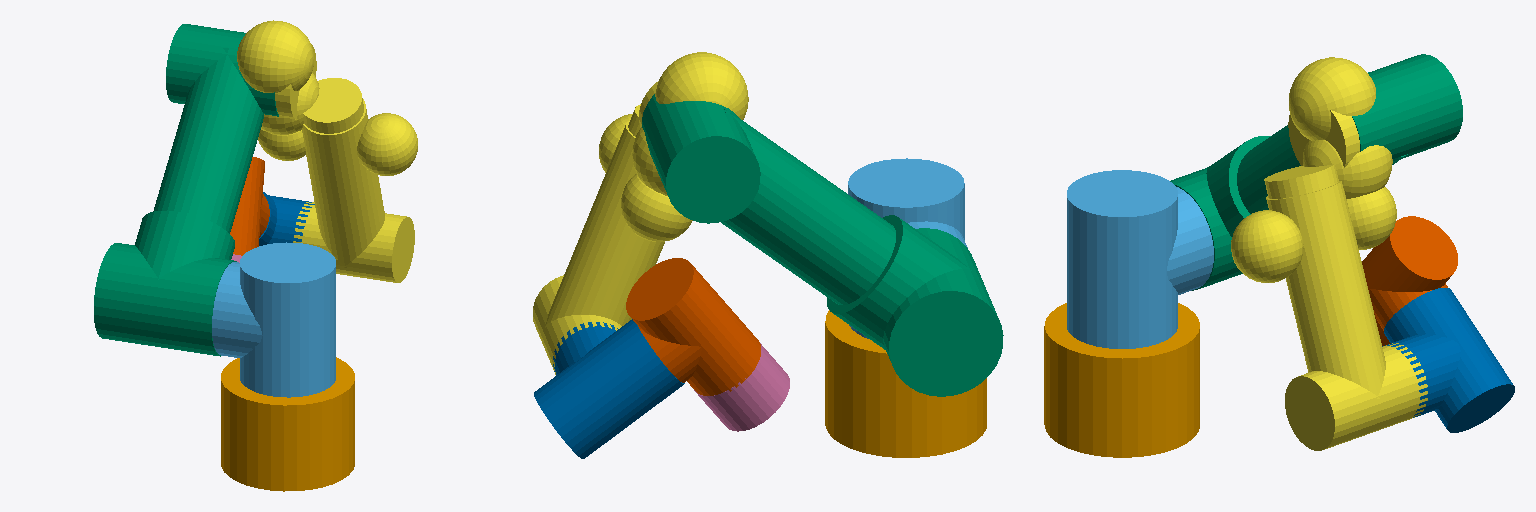
The robot description file, URDF, robot "[local-path]/Sciebo2/_EMR26/_git/emr26-1/ikpy/UR3e.urdf":
<?xml version="1.0"?>
<robot name="C:/Users/ProfJust/Sciebo2/_EMR26/_git/emr26-1/ikpy/UR3e.urdf" xmlns:xacro="http://ros.org/wiki/xacro">
  <link name="base_link">
    <visual>
      <origin xyz="0 0 0.045" rpy="-3.141592 0 0"/>
      <geometry>
        <cylinder radius="0.064" length="0.09"/>
      </geometry>
    </visual>
    <collision>
      <origin xyz="0 0 0.045" rpy="-3.141592 0 0"/>
      <geometry>
        <cylinder radius="0.064" length="0.09"/>
      </geometry>
    </collision>
  </link>
  <joint name="shoulder_pan_joint" type="revolute">
    <parent link="base_link"/>
    <child link="shoulder_link"/>
    <axis xyz="0 0 1"/>
    <limit effort="330" lower="-6.28319" upper="6.28319" velocity="3.14"/>
    <origin xyz="0 0 0.152" rpy="0 0 0.700086"/>
  </joint>
  <link name="shoulder_link">
    <visual>
      <origin xyz="0 0 -0.003" rpy="-3.141592 0 0"/>
      <geometry>
        <cylinder radius="0.046" length="0.121"/>
      </geometry>
    </visual>
    <collision>
      <origin xyz="0 0 -0.003" rpy="-3.141592 0 0"/>
      <geometry>
        <cylinder radius="0.046" length="0.121"/>
      </geometry>
    </collision>
    <visual>
      <origin xyz="0 0.03 0" rpy="-1.570796 0 0"/>
      <geometry>
        <cylinder radius="0.045" length="0.066"/>
      </geometry>
    </visual>
    <collision>
      <origin xyz="0 0.03 0" rpy="-1.570796 0 0"/>
      <geometry>
        <cylinder radius="0.045" length="0.066"/>
      </geometry>
    </collision>
  </link>
  <joint name="shoulder_lift_joint" type="revolute">
    <parent link="shoulder_link"/>
    <child link="upper_arm_link"/>
    <axis xyz="0 1 0"/>
    <limit effort="330" lower="-6.28319" upper="6.28319" velocity="3.14"/>
    <origin xyz="0 0.12 0" rpy="0 0.870837 0"/>
  </joint>
  <link name="upper_arm_link">
    <visual>
      <origin xyz="0 0 0.035" rpy="-3.141592 0 0"/>
      <geometry>
        <cylinder radius="0.046" length="0.073"/>
      </geometry>
    </visual>
    <collision>
      <origin xyz="0 0 0.035" rpy="-3.141592 0 0"/>
      <geometry>
        <cylinder radius="0.046" length="0.073"/>
      </geometry>
    </collision>
    <visual>
      <origin xyz="0 0 0.157" rpy="-3.141592 0 0"/>
      <geometry>
        <cylinder radius="0.038" length="0.186"/>
      </geometry>
    </visual>
    <collision>
      <origin xyz="0 0 0.157" rpy="-3.141592 0 0"/>
      <geometry>
        <cylinder radius="0.038" length="0.186"/>
      </geometry>
    </collision>
    <visual>
      <origin xyz="0 0 0" rpy="-1.570796 0 0"/>
      <geometry>
        <cylinder radius="0.046" length="0.119"/>
      </geometry>
    </visual>
    <collision>
      <origin xyz="0 0 0" rpy="-1.570796 0 0"/>
      <geometry>
        <cylinder radius="0.046" length="0.119"/>
      </geometry>
    </collision>
    <visual>
      <origin xyz="0 0.002 0.2435" rpy="-1.570796 0 0"/>
      <geometry>
        <cylinder radius="0.038" length="0.11"/>
      </geometry>
    </visual>
    <collision>
      <origin xyz="0 0.002 0.2435" rpy="-1.570796 0 0"/>
      <geometry>
        <cylinder radius="0.038" length="0.11"/>
      </geometry>
    </collision>
  </link>
  <joint name="elbow_joint" type="revolute">
    <parent link="upper_arm_link"/>
    <child link="forearm_link"/>
    <axis xyz="0 1 0"/>
    <limit effort="150" lower="-3.14159" upper="3.14159" velocity="3.14"/>
    <origin xyz="0 -0.093 0.244" rpy="3.141593 1.241584 3.141593"/>
  </joint>
  <link name="forearm_link">
    <visual>
      <origin xyz="0 0 0.125" rpy="-3.141592 0 0"/>
      <geometry>
        <cylinder radius="0.032" length="0.18"/>
      </geometry>
    </visual>
    <collision>
      <origin xyz="0 0 0.125" rpy="-3.141592 0 0"/>
      <geometry>
        <cylinder radius="0.032" length="0.18"/>
      </geometry>
    </collision>
    <visual>
      <origin xyz="0 0.002 0.213" rpy="-1.570796 0 0"/>
      <geometry>
        <cylinder radius="0.032" length="0.1"/>
      </geometry>
    </visual>
    <collision>
      <origin xyz="0 0.002 0.213" rpy="-1.570796 0 0"/>
      <geometry>
        <cylinder radius="0.032" length="0.1"/>
      </geometry>
    </collision>
    <visual>
      <origin xyz="0 0.05 0" rpy="-1.570796 0 0"/>
      <geometry>
        <cylinder radius="0.037" length="0.05"/>
      </geometry>
    </visual>
    <collision>
      <origin xyz="0 0.05 0" rpy="-1.570796 0 0"/>
      <geometry>
        <cylinder radius="0.037" length="0.05"/>
      </geometry>
    </collision>
    <visual>
      <origin xyz="0 0.05 -0.025" rpy="-1.570796 0 0"/>
      <geometry>
        <sphere radius="0.037"/>
      </geometry>
    </visual>
    <collision>
      <origin xyz="0 0.05 -0.025" rpy="-1.570796 0 0"/>
      <geometry>
        <sphere radius="0.037"/>
      </geometry>
    </collision>
    <visual>
      <origin xyz="0 0.05 0.025" rpy="-1.570796 0 0"/>
      <geometry>
        <sphere radius="0.037"/>
      </geometry>
    </visual>
    <collision>
      <origin xyz="0 0.05 0.025" rpy="-1.570796 0 0"/>
      <geometry>
        <sphere radius="0.037"/>
      </geometry>
    </collision>
    <visual>
      <origin xyz="0 0 0.07" rpy="0 0 0"/>
      <geometry>
        <cylinder radius="0.03" length="0.1"/>
      </geometry>
    </visual>
    <collision>
      <origin xyz="0 0 0.07" rpy="0 0 0"/>
      <geometry>
        <cylinder radius="0.03" length="0.1"/>
      </geometry>
    </collision>
    <visual>
      <origin xyz="0 0.05 0.07" rpy="0 0 0"/>
      <geometry>
        <sphere radius="0.03"/>
      </geometry>
    </visual>
    <collision>
      <origin xyz="0 0.05 0.07" rpy="0 0 0"/>
      <geometry>
        <sphere radius="0.03"/>
      </geometry>
    </collision>
    <visual>
      <origin xyz="0 -0.05 0.07" rpy="0 0 0"/>
      <geometry>
        <sphere radius="0.03"/>
      </geometry>
    </visual>
    <collision>
      <origin xyz="0 -0.05 0.07" rpy="0 0 0"/>
      <geometry>
        <sphere radius="0.03"/>
      </geometry>
    </collision>
  </link>
  <joint name="wrist_1_joint" type="revolute">
    <parent link="forearm_link"/>
    <child link="wrist_1_link"/>
    <axis xyz="0 1 0"/>
    <limit effort="54" lower="-6.28319" upper="6.28319" velocity="6.28"/>
    <origin xyz="0 0 0.213" rpy="3.141593 0.570801 3.141593"/>
  </joint>
  <link name="wrist_1_link">
    <visual>
      <origin xyz="0 0.075 0" rpy="-1.570796 0 0"/>
      <geometry>
        <cylinder radius="0.032" length="0.064"/>
      </geometry>
    </visual>
    <collision>
      <origin xyz="0 0.075 0" rpy="-1.570796 0 0"/>
      <geometry>
        <cylinder radius="0.032" length="0.064"/>
      </geometry>
    </collision>
    <visual>
      <origin xyz="0 0.104 0.003" rpy="3.141592 0 0"/>
      <geometry>
        <cylinder radius="0.033" length="0.1"/>
      </geometry>
    </visual>
    <collision>
      <origin xyz="0 0.104 0.003" rpy="3.141592 0 0"/>
      <geometry>
        <cylinder radius="0.033" length="0.1"/>
      </geometry>
    </collision>
  </link>
  <joint name="wrist_2_joint" type="revolute">
    <parent link="wrist_1_link"/>
    <child link="wrist_2_link"/>
    <axis xyz="0 0 1"/>
    <limit effort="54" lower="-6.28319" upper="6.28319" velocity="6.28"/>
    <origin xyz="0 0.104 0" rpy="0 0 1.699999"/>
  </joint>
  <link name="wrist_2_link">
    <visual>
      <origin xyz="0 0.002 0.0854" rpy="-1.570796 0 0"/>
      <geometry>
        <cylinder radius="0.032" length="0.097"/>
      </geometry>
    </visual>
    <collision>
      <origin xyz="0 0.002 0.0854" rpy="-1.570796 0 0"/>
      <geometry>
        <cylinder radius="0.032" length="0.097"/>
      </geometry>
    </collision>
    <visual>
      <origin xyz="0 0 0.0636" rpy="-3.141592 0 0"/>
      <geometry>
        <cylinder radius="0.032" length="0.043"/>
      </geometry>
    </visual>
    <collision>
      <origin xyz="0 0 0.0636" rpy="-3.141592 0 0"/>
      <geometry>
        <cylinder radius="0.032" length="0.043"/>
      </geometry>
    </collision>
  </link>
  <joint name="wrist_3_joint" type="revolute">
    <parent link="wrist_2_link"/>
    <child link="wrist_3_link"/>
    <axis xyz="0 1 0"/>
    <limit effort="54" lower="-6.28319" upper="6.28319" velocity="6.28"/>
    <origin xyz="0 0 0.085" rpy="0 0.1 0"/>
  </joint>
  <link name="wrist_3_link">
    <visual>
      <origin xyz="0 0.07 0" rpy="-1.570796 0 0"/>
      <geometry>
        <cylinder radius="0.032" length="0.044"/>
      </geometry>
    </visual>
    <collision>
      <origin xyz="0 0.07 0" rpy="-1.570796 0 0"/>
      <geometry>
        <cylinder radius="0.032" length="0.044"/>
      </geometry>
    </collision>
  </link>
</robot>

--- Render facts (derived) ---
3 views of the same robot in one strip: view 1: azimuth 30°, elevation 25°; view 2: azimuth 150°, elevation 25°; view 3: azimuth 270°, elevation 25° (orthographic).
Robot: [local-path]/Sciebo2/_EMR26/_git/emr26-1/ikpy/UR3e.urdf — 7 links, 6 joints (6 revolute); root link base_link; default pose: all joints at 0.
Links seen in each view (by area): view 1: upper_arm_link, forearm_link, shoulder_link, base_link, wrist_2_link, wrist_1_link; view 2: upper_arm_link, forearm_link, base_link, wrist_1_link, wrist_2_link, shoulder_link, wrist_3_link; view 3: forearm_link, shoulder_link, base_link, upper_arm_link, wrist_1_link, wrist_2_link.
Link boxes in pixels (x1,y1,x2,y2): upper_arm_link: (94,24,278,356); forearm_link: (237,20,417,282); shoulder_link: (212,242,335,397); base_link: (221,357,354,491); wrist_2_link: (230,157,269,255); wrist_1_link: (259,192,314,245); upper_arm_link: (642,94,1003,396); forearm_link: (533,52,748,374); base_link: (825,310,986,457); wrist_1_link: (534,319,684,458); wrist_2_link: (626,258,760,395); shoulder_link: (848,158,967,338); wrist_3_link: (694,343,789,431); forearm_link: (1231,57,1427,450); shoulder_link: (1067,170,1213,348); base_link: (1044,303,1199,457); upper_arm_link: (1170,54,1462,290); wrist_1_link: (1382,288,1514,432); wrist_2_link: (1362,216,1457,345).
Size in the robot's own frame: 0.3904 by 0.3867 by 0.3695 metres.
Geometry: primitives only (box / cylinder / sphere), no mesh files.
